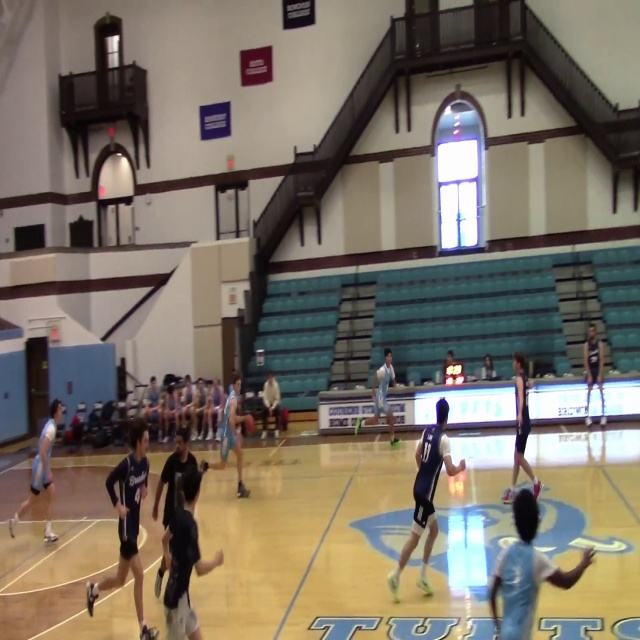Basketball: (244, 415, 255, 436)
